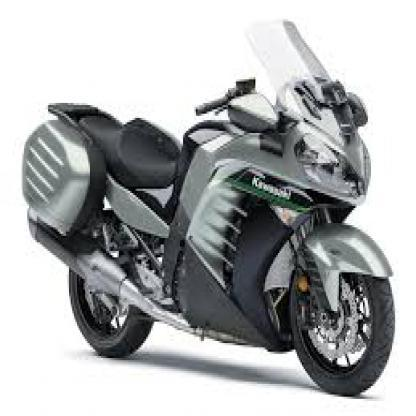Motorcycle: (13, 13, 399, 401)
